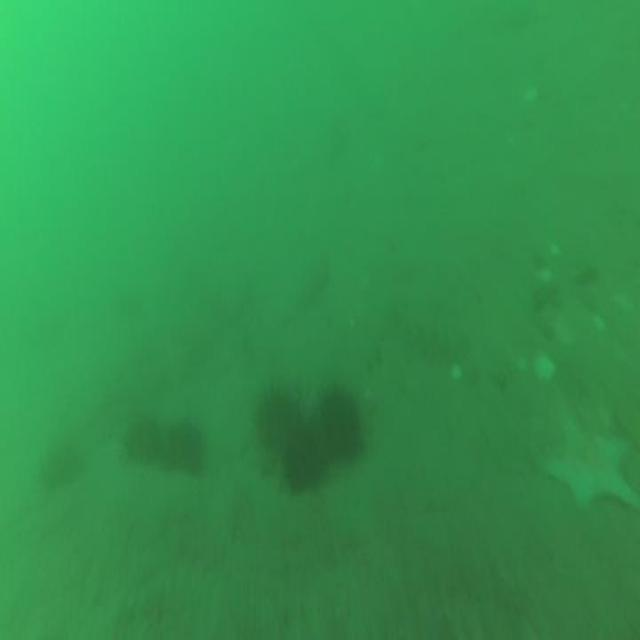echinus: (314, 394, 362, 462), (282, 427, 324, 488), (256, 392, 294, 447), (166, 428, 202, 477), (124, 424, 158, 463)
starfish: (542, 414, 636, 514)
